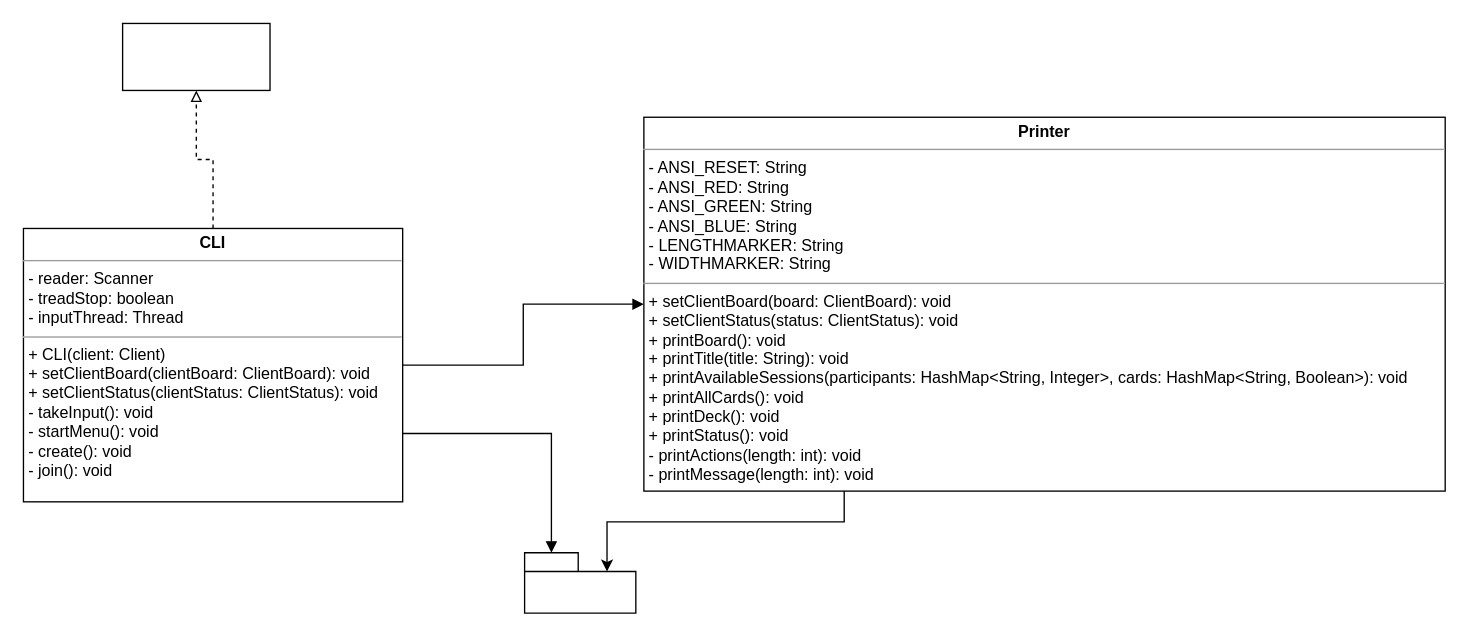
The diagram is 1469 pixels wide and 637 high, and some of its shapes have lost their labels. Each missing label, with the box of its shape:
Client: (523, 551, 636, 613)
«interface» Observer: (121, 22, 270, 90)
